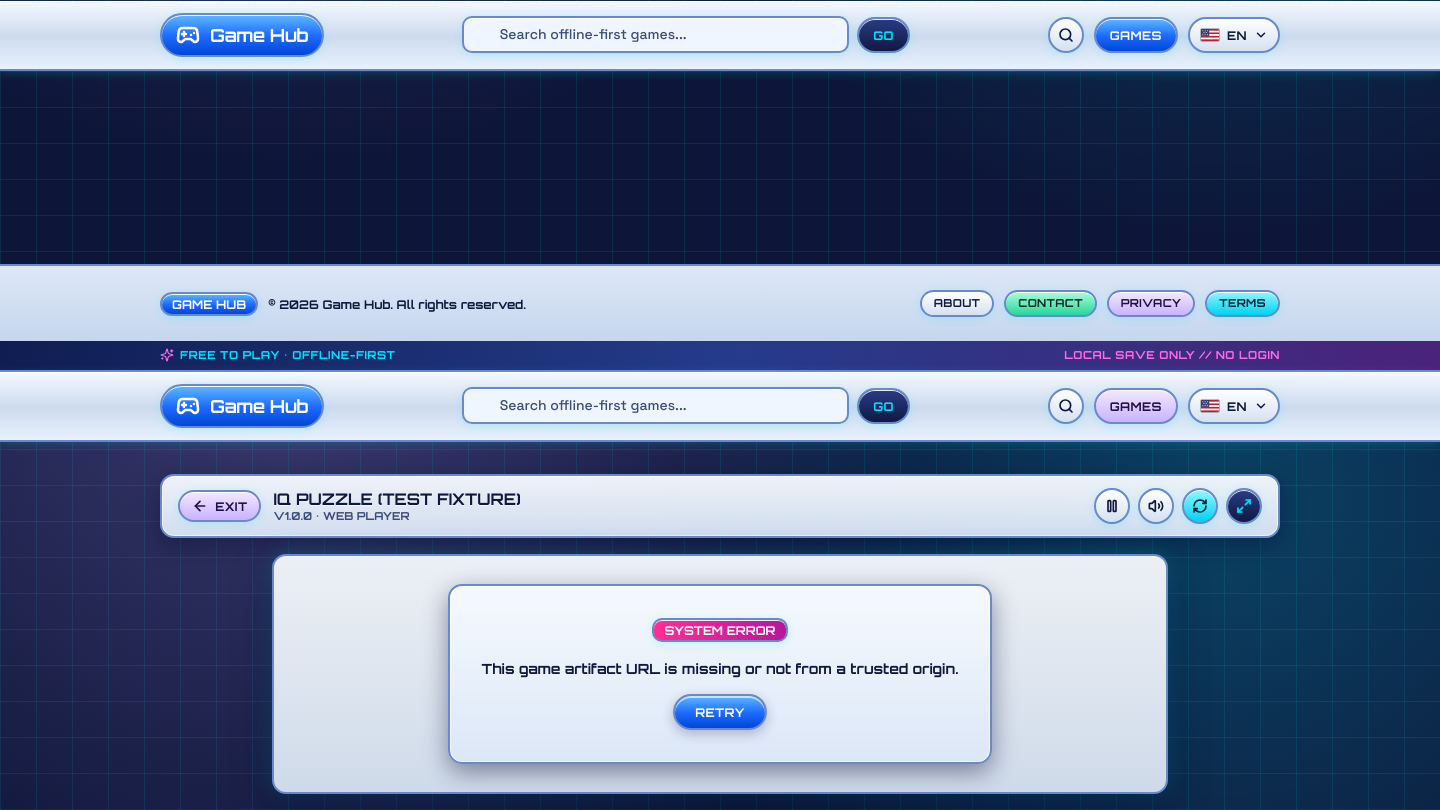
it: Game Hub Public & Admin Flows › safely interpolates $ tokens in translated search headings and updates GamePlayer error on locale switch
This screenshot has width=1440, height=810.
(page scrolled)
Expected: the text "missing or not from a trusted origin" is shown, [482,657,958,679]
What coordinates should you click on to do the following:
click the button with aria-label "select language"
I would click on:
 (1234, 406)
Its box is [1188,388,1280,424].
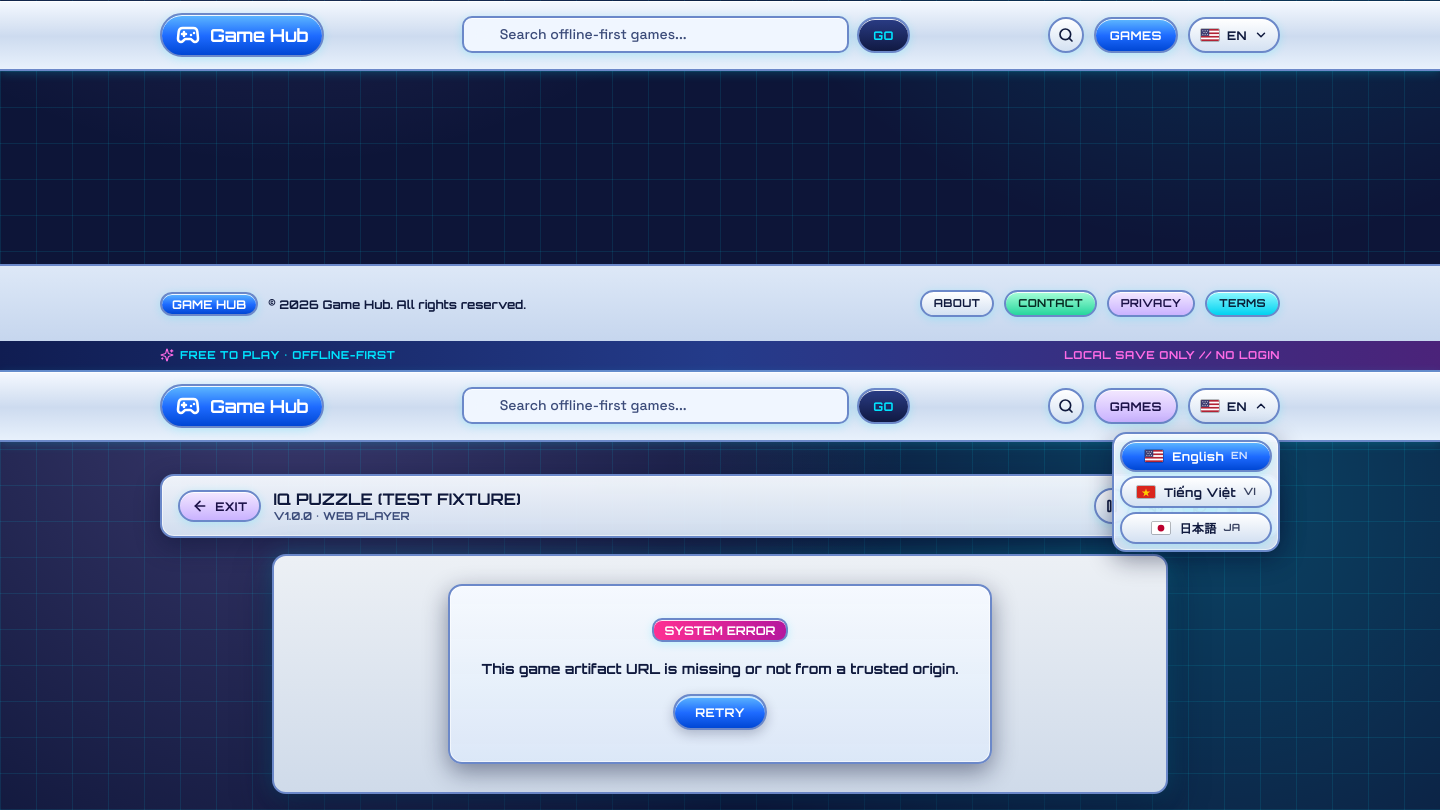
What coordinates should you click on to do the following:
click the option "Tiếng Việt VI"
I would click on:
 (1196, 492)
Its box is [1120,476,1272,508].
(page scrolled)
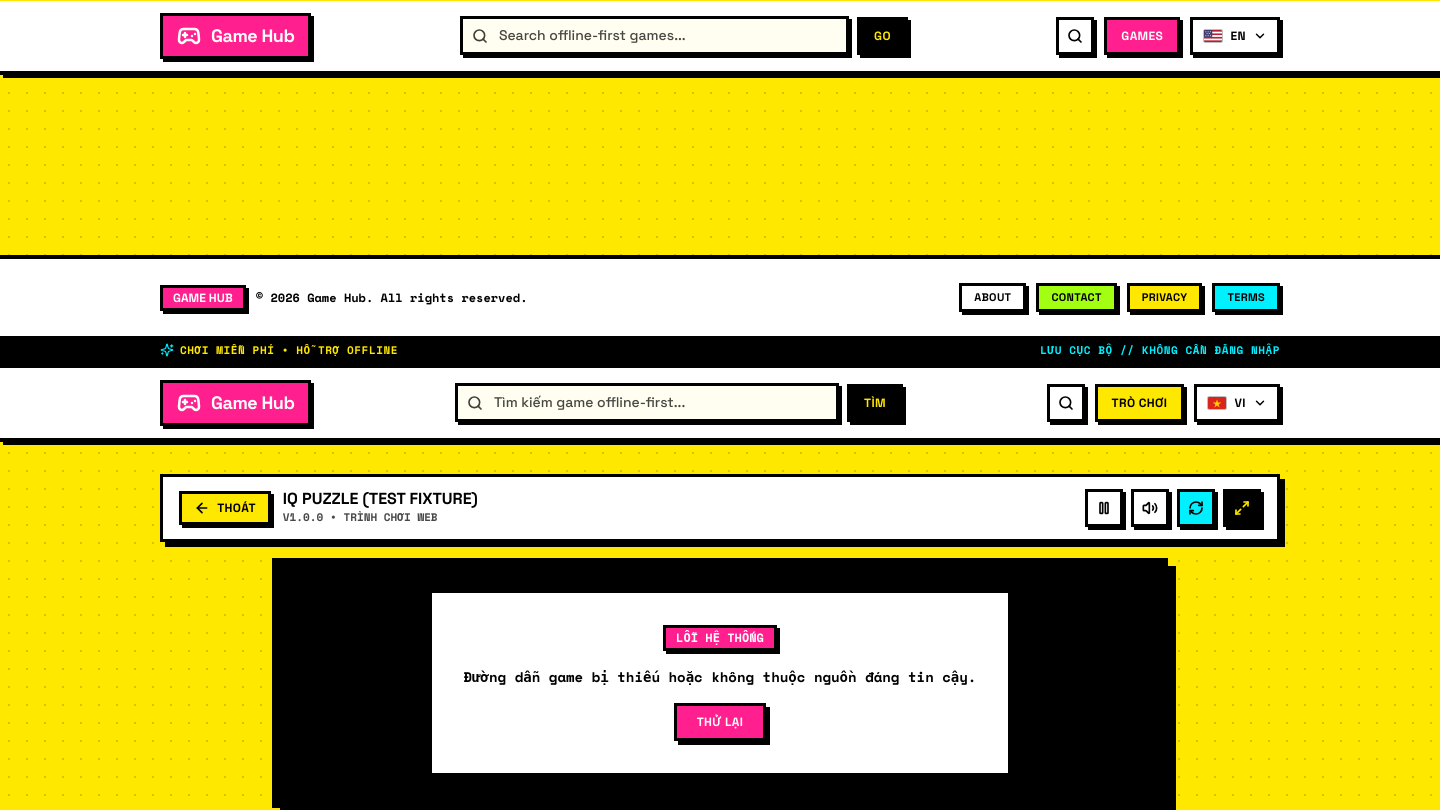
Expected: the text "Đường dẫn game bị thiếu hoặc không thuộc nguồn đáng tin cậy." is shown, [464,666,976,686]
